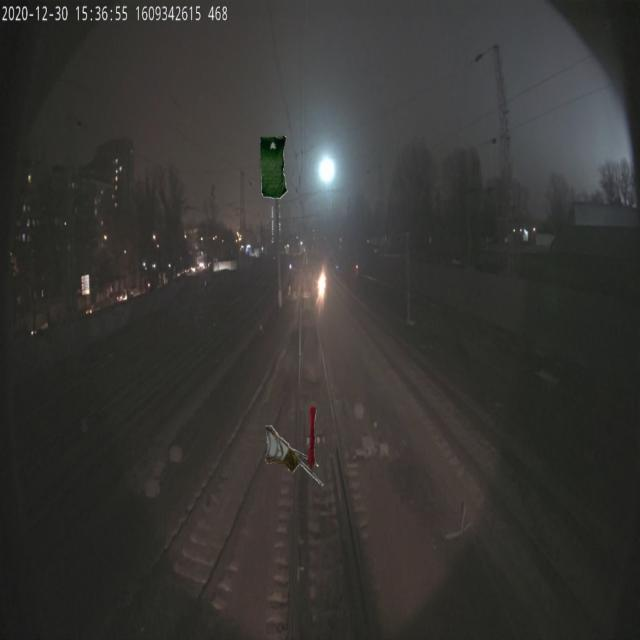floating object: (265, 426, 325, 490), (307, 406, 317, 470)
plastic bag: (260, 134, 287, 198)
